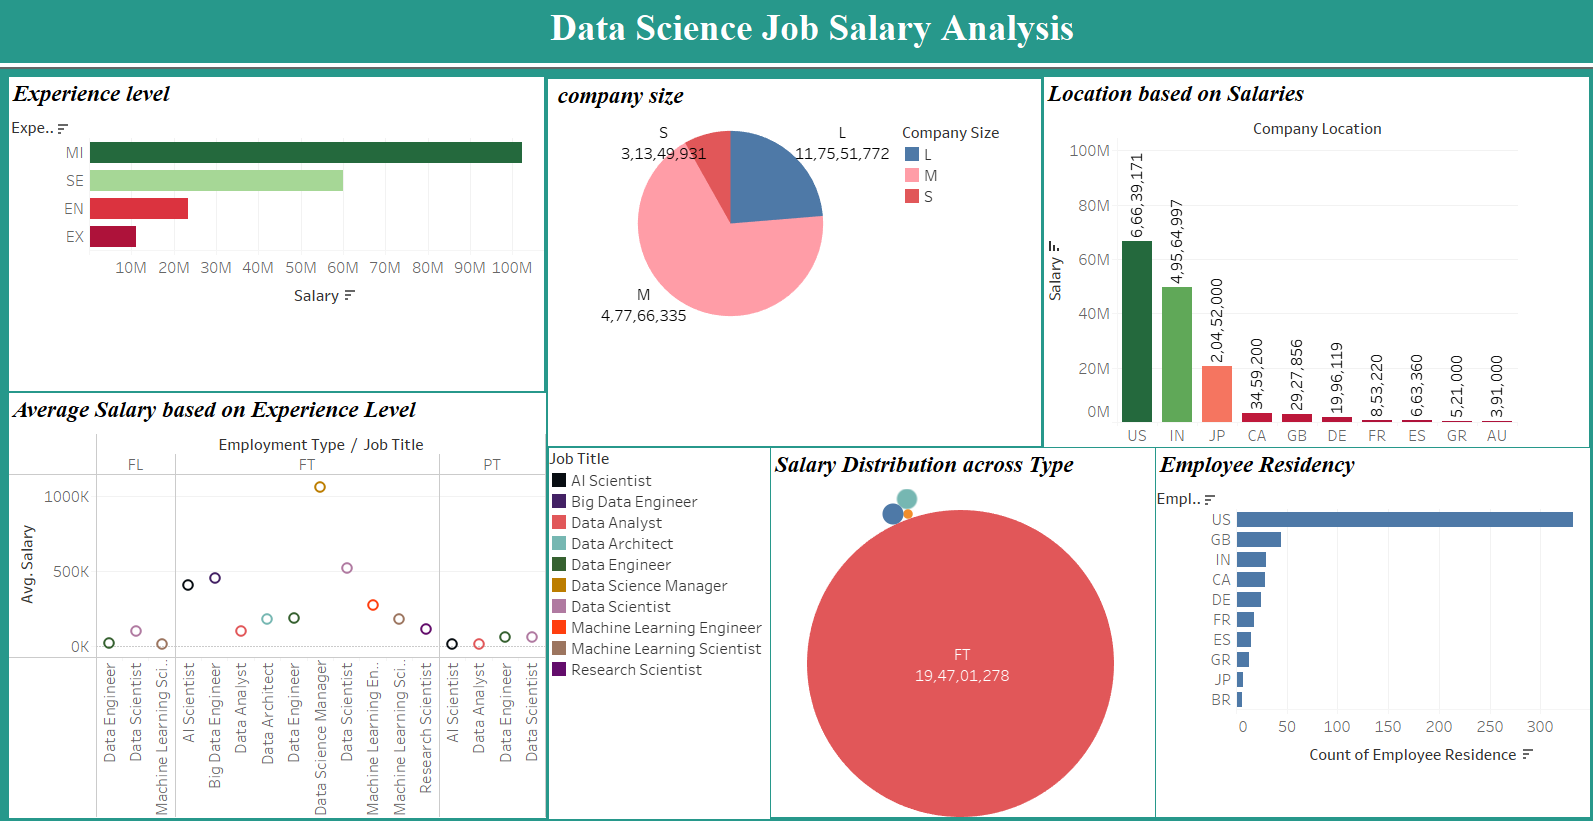

Layout of this report page (visuals, bound fields, positions):
{"tool":"tableau","page":{"name":"Dashboard 1","canvas":[1000,1000],"units":"permille","ordinal":0},"visuals":[{"type":"title","box":[4.9,8.3,990.2,81.2]},{"type":"worksheet","title":"Sheet 7","mark":"Automatic","rows":["experience_level"],"cols":["salary"],"box":[22.6,100,327.4,327.1]},{"type":"worksheet","title":"location based salaries","mark":"Automatic","rows":["salary"],"cols":["company_location"],"box":[656.1,100,333.5,385.4]},{"type":"worksheet","title":"total companies by size","mark":"Pie","box":[352.5,102.1,301.7,382.3]},{"type":"legend","title":"total companies by size","param":"[federated.0nig3bx07ui5p71d99in31r52qm1].[none:company_size:nk]","box":[569.2,146.9,79,95.8]},{"type":"worksheet","title":"average salaries based on experience level","mark":"Shape","rows":["salary"],"cols":["employment_type","job_title"],"box":[22.6,429.2,328.6,442.7]},{"type":"legend","title":"average salaries based on experience level","param":"[federated.0nig3bx07ui5p71d99in31r52qm1].[none:job_title:nk]","box":[353.1,486.5,135.2,386.5]},{"type":"worksheet","title":"salary distribution across type","mark":"Circle","box":[489,486.5,235,384.4]},{"type":"worksheet","title":"Sheet 8","mark":"Automatic","rows":["employee_residence"],"cols":["employee_residence"],"box":[724.6,486.5,265.6,384.4]}]}

Visuals, with their boxes on the dashboard's canvas, which has no fixed pixel size, in thousandths of its width and height (x1, y1, x2, y2). These are canvas units, not pixel positions in the 1593x821 screenshot, which may show the page scaled, cropped or inside an application window:
title: detection(5, 8, 995, 90)
"Sheet 7" worksheet: detection(23, 100, 350, 427)
"location based salaries" worksheet: detection(656, 100, 990, 485)
"total companies by size" worksheet (Pie marks): detection(352, 102, 654, 484)
"total companies by size" legend: detection(569, 147, 648, 243)
"average salaries based on experience level" worksheet (Shape marks): detection(23, 429, 351, 872)
"average salaries based on experience level" legend: detection(353, 486, 488, 873)
"salary distribution across type" worksheet (Circle marks): detection(489, 486, 724, 871)
"Sheet 8" worksheet: detection(725, 486, 990, 871)
